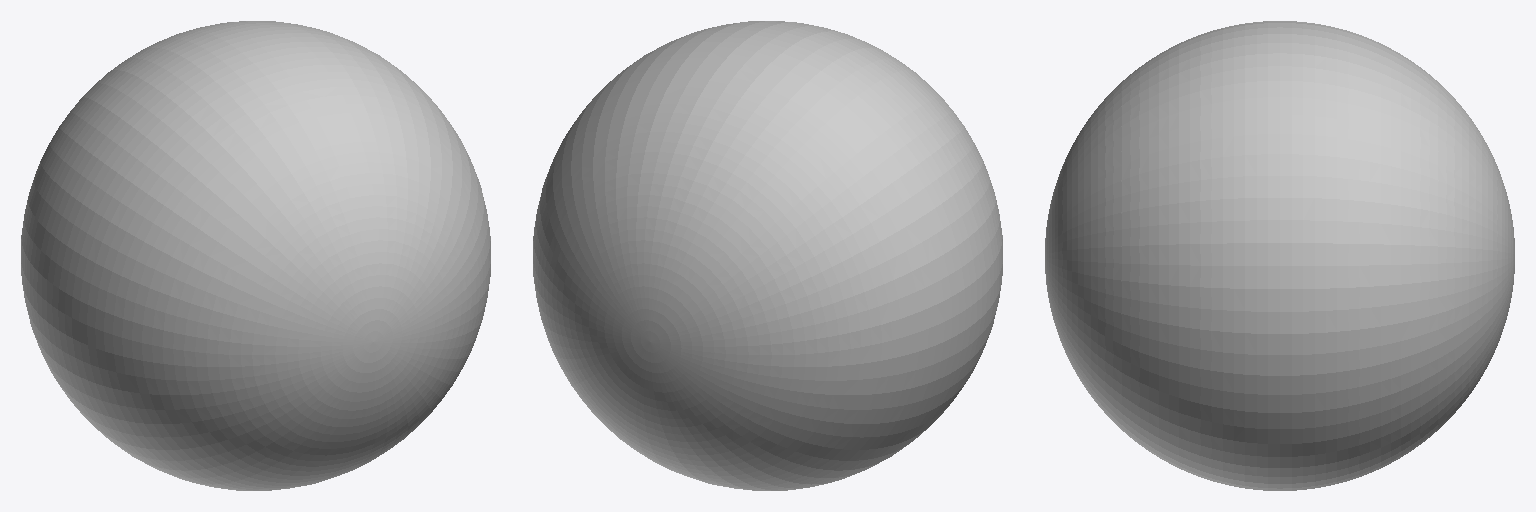
The model's file is planet.obj.
The picture shows the model from 3 angles: view 1: azimuth 30°, elevation 25°; view 2: azimuth 150°, elevation 25°; view 3: azimuth 270°, elevation 25°; orthographic projection.
Parts seen in each view (by area): view 1: Plane; view 2: Plane; view 3: Plane.
Part boxes in pixels (bbox=[...]): Plane: bbox=[21, 21, 490, 490]; Plane: bbox=[533, 21, 1002, 490]; Plane: bbox=[1045, 21, 1514, 490].
Size of the model in its own units: 5.21 by 5.21 by 5.21.